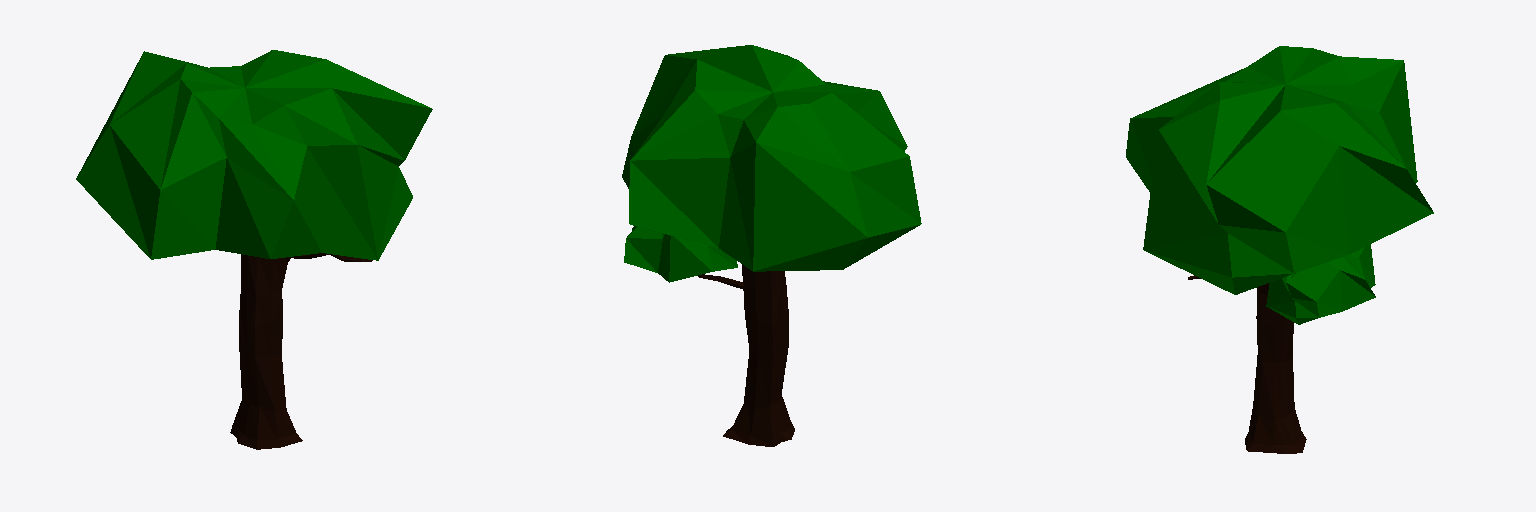
Rendered from Tree1.obj.
The picture shows the model from 3 angles: view 1: azimuth 30°, elevation 25°; view 2: azimuth 150°, elevation 25°; view 3: azimuth 270°, elevation 25°; orthographic projection.
Parts seen in each view (by area): view 1: Tree1_Cube.002; view 2: Tree1_Cube.002; view 3: Tree1_Cube.002.
Boxes of the visible parts, x1=… form: Tree1_Cube.002: x1=76, y1=50, x2=432, y2=449; Tree1_Cube.002: x1=622, y1=45, x2=921, y2=446; Tree1_Cube.002: x1=1126, y1=46, x2=1433, y2=453.
Size of the model in its own units: 4.98 by 6.12 by 4.75.